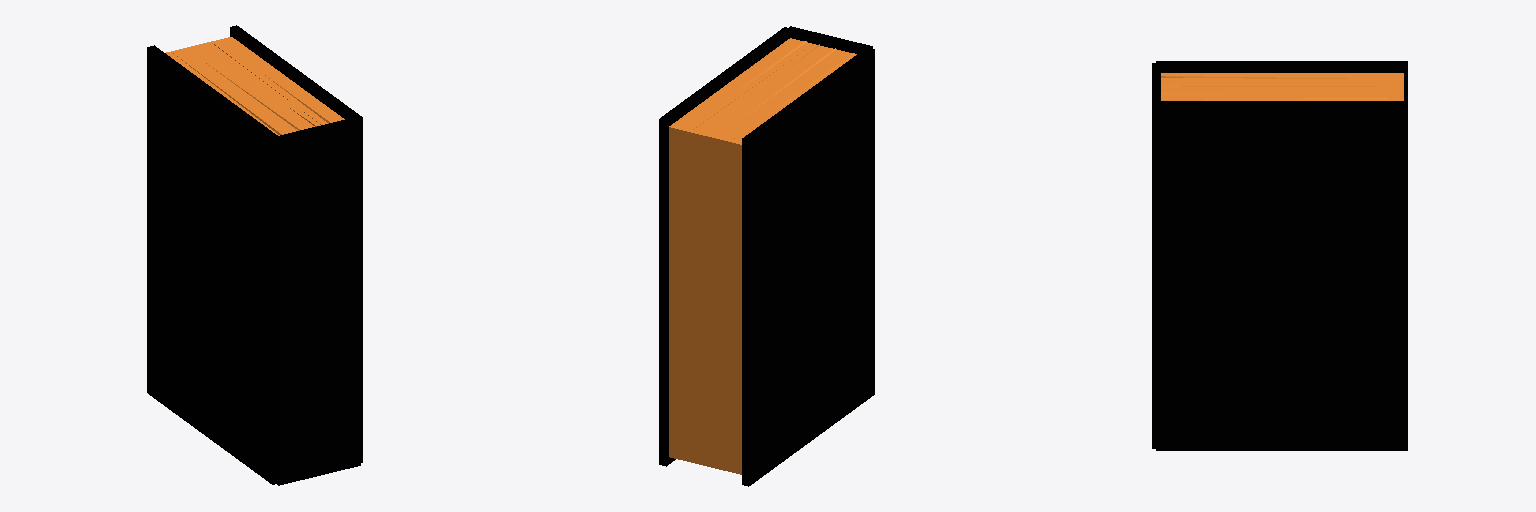
3 views of the same model, side by side, from view 1: azimuth 30°, elevation 25°; view 2: azimuth 150°, elevation 25°; view 3: azimuth 270°, elevation 25° (orthographic).
Parts seen in each view (by area): view 1: group[number redacted], group[number redacted], group[number redacted], group[number redacted]; view 2: group[number redacted], group[number redacted], group[number redacted], group[number redacted]; view 3: group[number redacted], group[number redacted], group[number redacted], group[number redacted].
Part boxes in pixels (x1,y1,x2,y2): group[number redacted]: (147,45,277,484); group[number redacted]: (275,117,360,485); group[number redacted]: (166,37,344,135); group[number redacted]: (230,25,362,462); group[number redacted]: (742,48,874,486); group[number redacted]: (669,38,856,474); group[number redacted]: (659,27,789,466); group[number redacted]: (787,26,872,53); group[number redacted]: (1156,101,1407,450); group[number redacted]: (1161,73,1403,100); group[number redacted]: (1156,61,1407,100); group[number redacted]: (1152,63,1160,448).
Size of the model in its own units: 0.12 by 0.44 by 0.295.